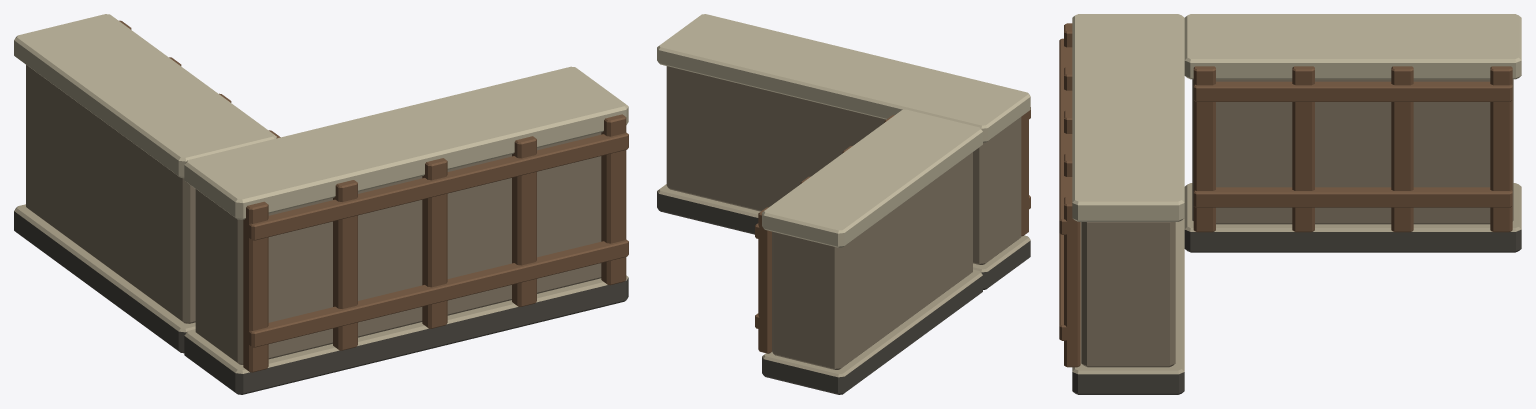
File: wall-corner.glb
3 renders of one model, left to right at view 1: azimuth 30°, elevation 25°; view 2: azimuth 150°, elevation 25°; view 3: azimuth 270°, elevation 25°, orthographic. The views are drawn at different scales.
Visible parts, largest first — view 1: wall-corner__body; view 2: wall-corner__body; view 3: wall-corner__body.
Part boxes in pixels (left/top/right/bottom): wall-corner__body: left=14, top=14, right=628, bottom=394; wall-corner__body: left=657, top=14, right=1030, bottom=394; wall-corner__body: left=1059, top=14, right=1521, bottom=394.
Bounding box in the file's own units: 2 × 0.95 × 2.06.
